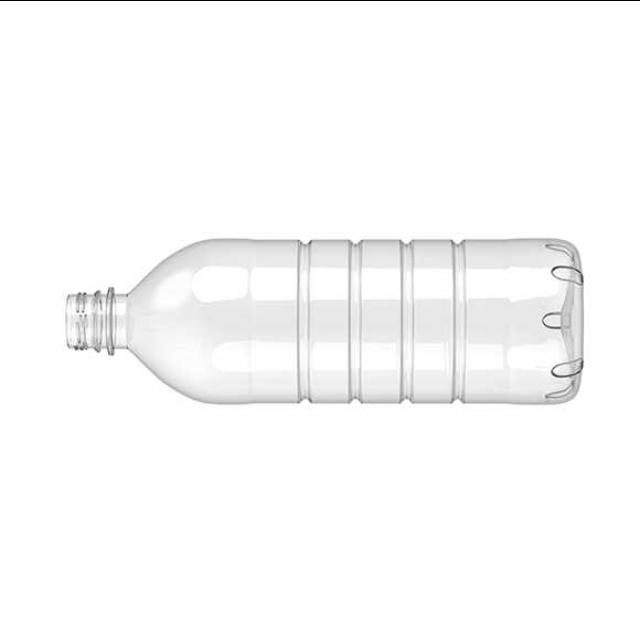bottom: (522, 229, 594, 418)
no_cap: (62, 287, 124, 371)
